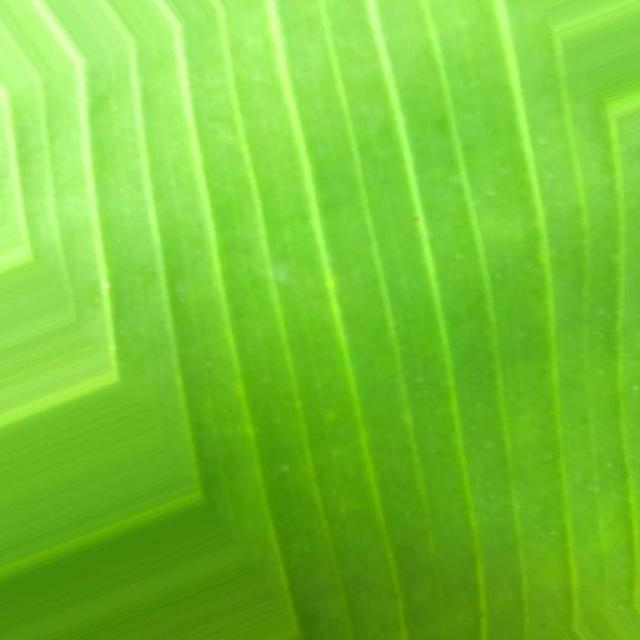Black_leaf_spot: (0, 0, 542, 545)
